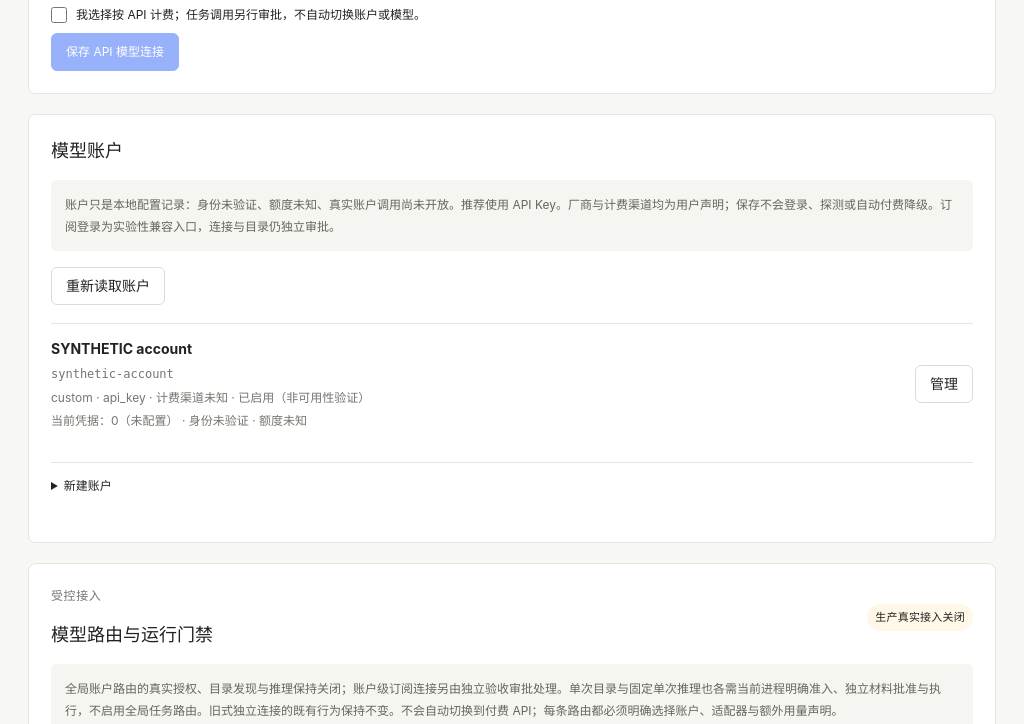
Scenario: offers local acceptance only inside the selected account and never reads it automatically
(page scrolled)
Expected: the button "本地验收检查" is not shown
Click the button with aria-label "管理账户 SYNTHETIC account".
click(944, 384)  # box [915,365,973,403]
(page scrolled)
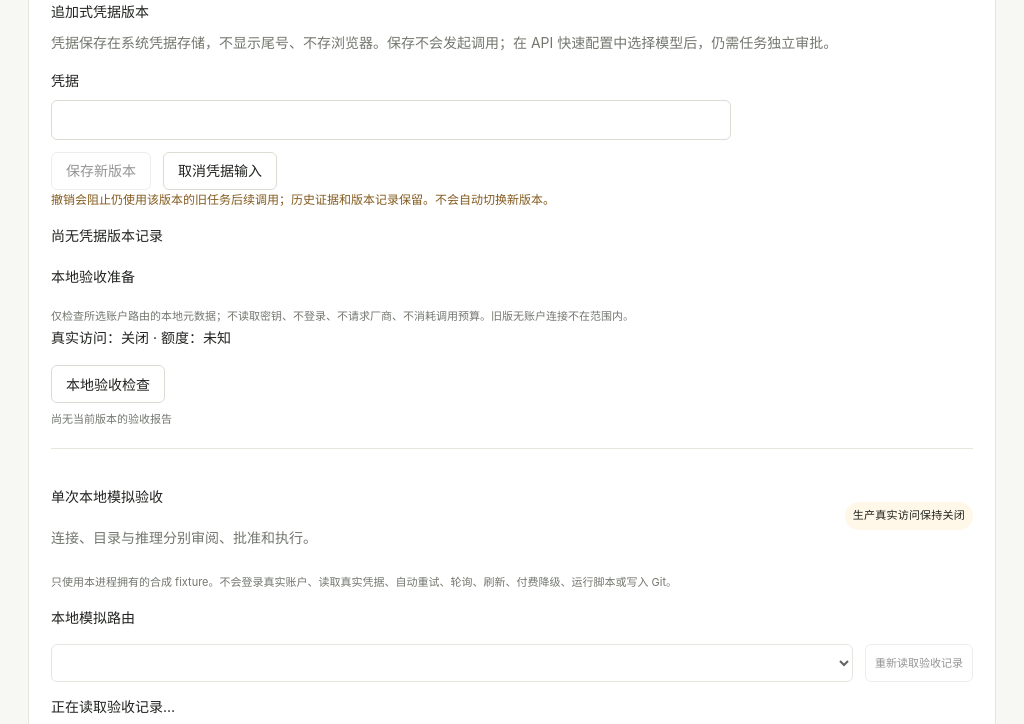
Click the button "本地验收检查".
click(108, 384)  # box [51,365,165,403]
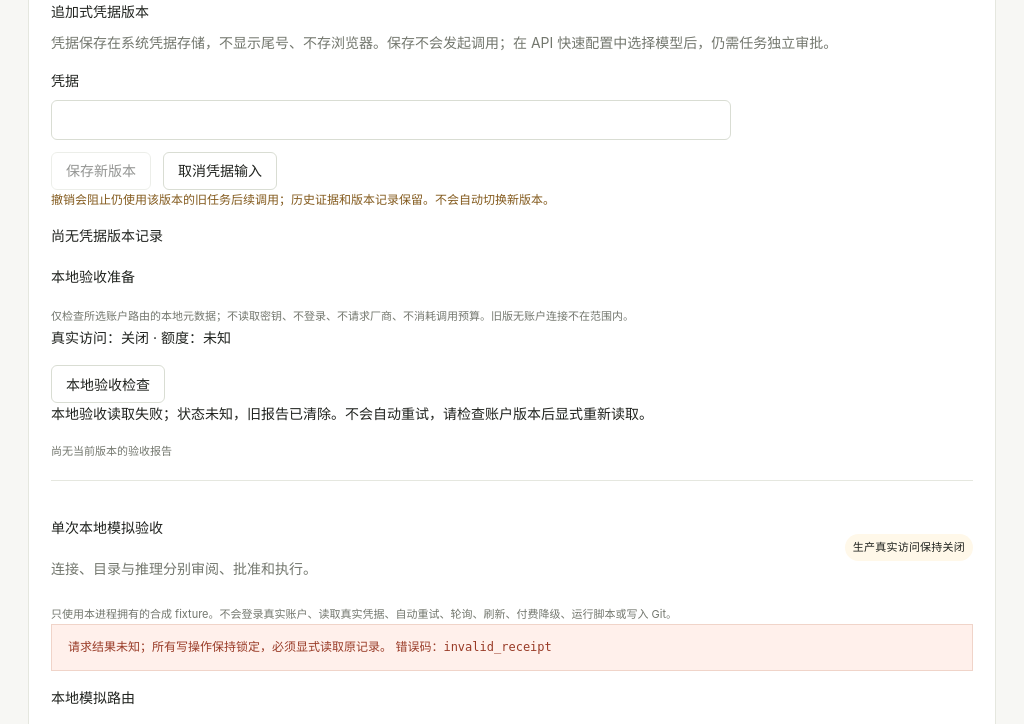
Expected: the text "本地验收读取失败；状态未知，旧报告已清除。不会自动重试，请检查账户版本后显式重新读取。" is shown, [51,405,653,422]
